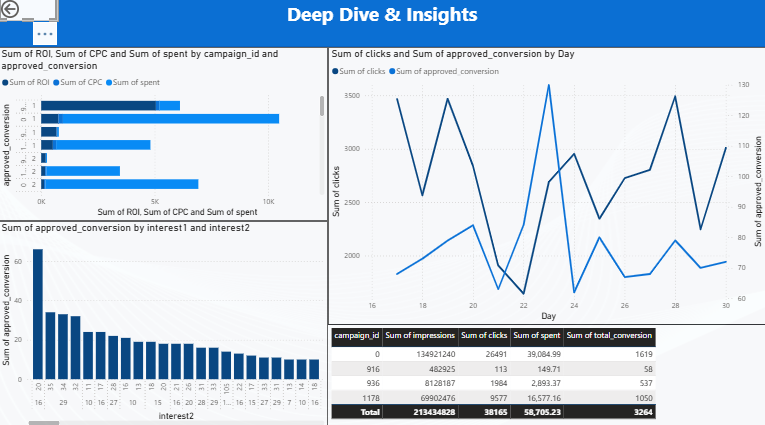

The page's visual inventory and layout, read from the dashboard file:
{"tool":"powerbi","page":{"name":"Page 2","canvas":[1280,720],"ordinal":1},"visuals":[{"type":"textbox","box":[0,0,1280,83.3],"z":0},{"type":"actionButton","box":[0,0,100,40],"z":2},{"type":"barChart","fields":{"Category":["campaign_data_with_metrics_updated.campaign_id","campaign_data_with_metrics_updated.approved_conversion"],"Y":["Sum(campaign_data_with_metrics_updated.ROI)","Sum(campaign_data_with_metrics_updated.CPC)","Sum(campaign_data_with_metrics_updated.spent)"]},"box":[0,83.3,550,290],"z":3},{"type":"columnChart","fields":{"Category":["campaign_data_with_metrics_updated.interest1","campaign_data_with_metrics_updated.interest2"],"Y":["Sum(campaign_data_with_metrics_updated.approved_conversion)"]},"box":[0,373.3,550,346.7],"z":4},{"type":"lineChart","fields":{"Category":["campaign_data_with_metrics_updated.reporting_start.Variation.Date Hierarchy.Year","campaign_data_with_metrics_updated.reporting_start.Variation.Date Hierarchy.Quarter","campaign_data_with_metrics_updated.reporting_start.Variation.Date Hierarchy.Month","campaign_data_with_metrics_updated.reporting_start.Variation.Date Hierarchy.Day"],"Y":["Sum(campaign_data_with_metrics_updated.clicks)"],"Y2":["Sum(campaign_data_with_metrics_updated.approved_conversion)"]},"box":[550,83.3,730,463.3],"z":5},{"type":"tableEx","fields":{"Values":["campaign_data_with_metrics_updated.campaign_id","Sum(campaign_data_with_metrics_updated.impressions)","Sum(campaign_data_with_metrics_updated.clicks)","Sum(campaign_data_with_metrics_updated.spent)","Sum(campaign_data_with_metrics_updated.total_conversion)"]},"box":[550,546.7,730,173.3],"z":6}]}

Visuals, with their boxes in screenshot pixels (x1, y1, x2, y2), scaled from the page's 1280x720 canvas onto the 765x425 screenshot:
textbox: (left=0, top=0, right=764, bottom=49)
actionButton: (left=0, top=0, right=60, bottom=24)
barChart - campaign_data_with_metrics_updated.campaign_id x campaign_data_with_metrics_updated.approved_conversion: (left=0, top=49, right=329, bottom=220)
columnChart - campaign_data_with_metrics_updated.interest1 x campaign_data_with_metrics_updated.interest2: (left=0, top=220, right=329, bottom=424)
lineChart - campaign_data_with_metrics_updated.reporting_start.Variation.Date Hierarchy.Year x campaign_data_with_metrics_updated.reporting_start.Variation.Date Hierarchy.Quarter: (left=329, top=49, right=764, bottom=323)
tableEx - campaign_data_with_metrics_updated.campaign_id x Sum(campaign_data_with_metrics_updated.impressions): (left=329, top=323, right=764, bottom=424)
